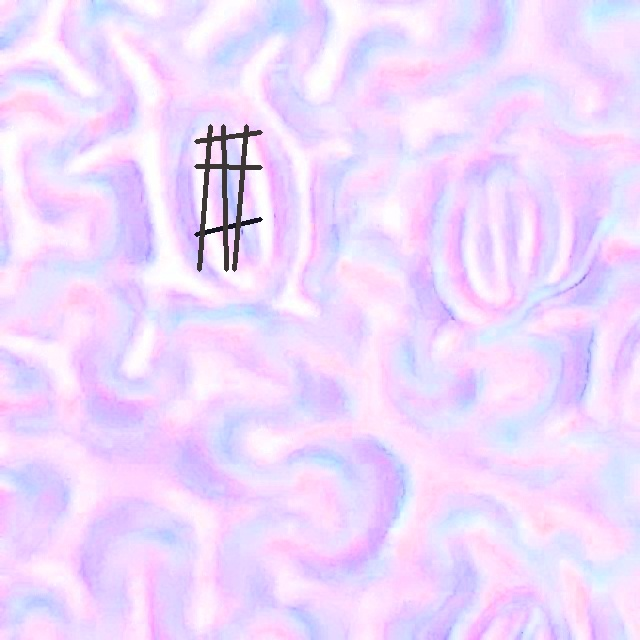open: (194, 124, 262, 271)
